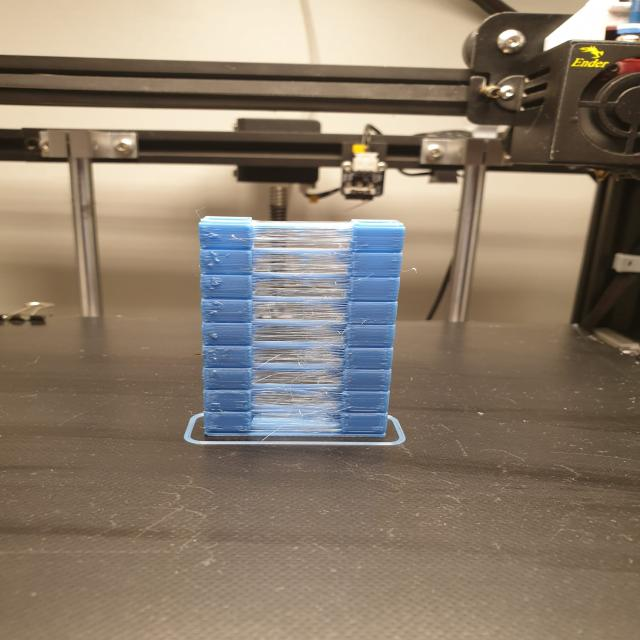stringing: (256, 228, 346, 246), (253, 255, 348, 270), (253, 279, 342, 293), (253, 370, 339, 383), (254, 304, 339, 317), (250, 328, 340, 340), (254, 352, 343, 362), (254, 394, 337, 404)
